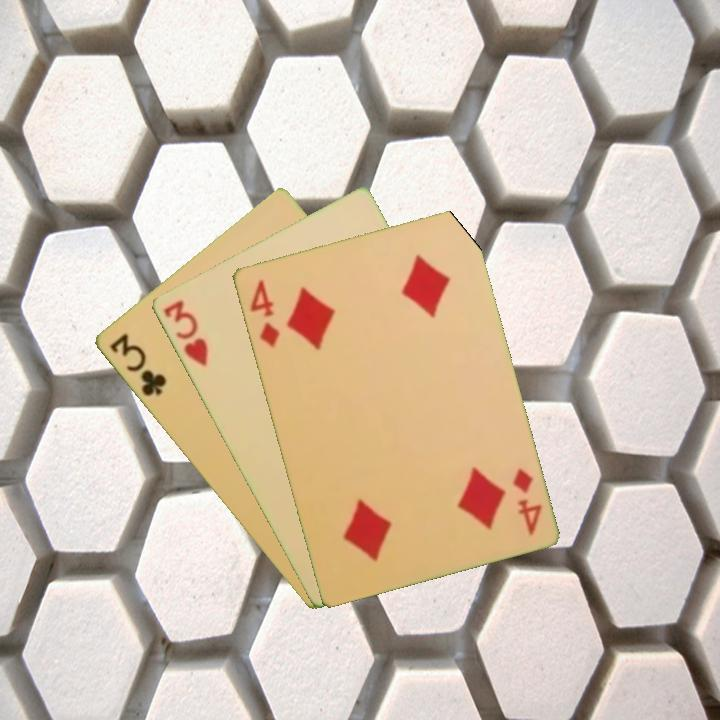3c: (105, 329, 169, 399)
3h: (159, 296, 211, 369)
4d: (508, 464, 545, 539), (246, 275, 282, 351)
